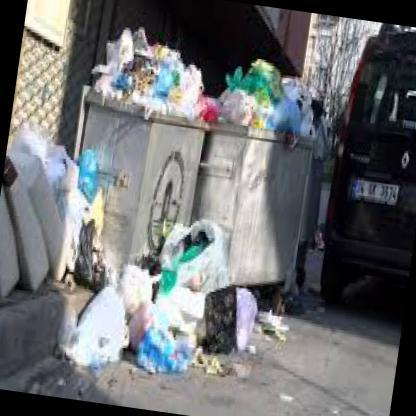Garbage: (86, 13, 226, 124), (216, 46, 329, 136), (192, 277, 266, 381), (158, 219, 235, 303), (56, 298, 132, 380), (138, 216, 182, 303), (140, 316, 198, 382), (251, 306, 310, 367), (66, 218, 116, 282), (38, 133, 84, 191), (120, 300, 160, 362), (174, 73, 219, 124), (115, 258, 153, 308), (68, 142, 102, 196), (186, 342, 226, 387), (77, 194, 109, 235), (245, 58, 288, 82), (270, 114, 300, 148), (94, 79, 126, 100), (136, 92, 161, 116), (226, 100, 256, 119)
